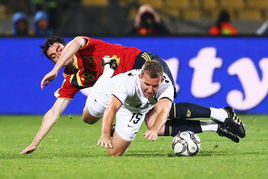fall: (76, 54, 247, 158)
